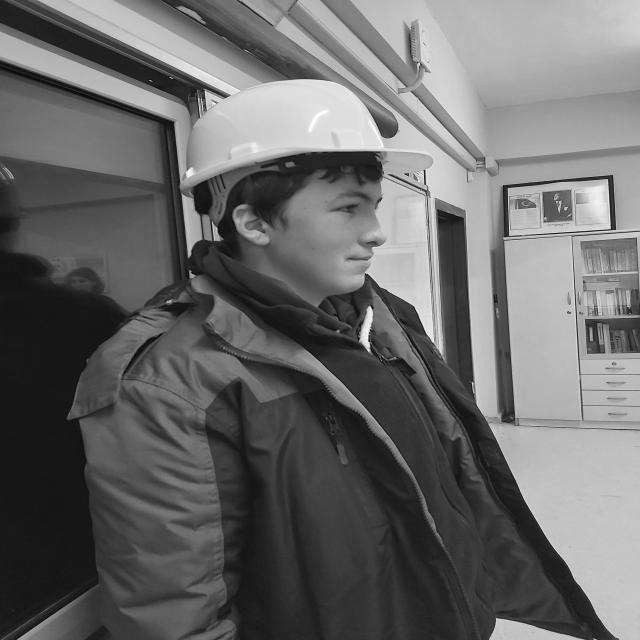construction helmet: (180, 81, 397, 238)
